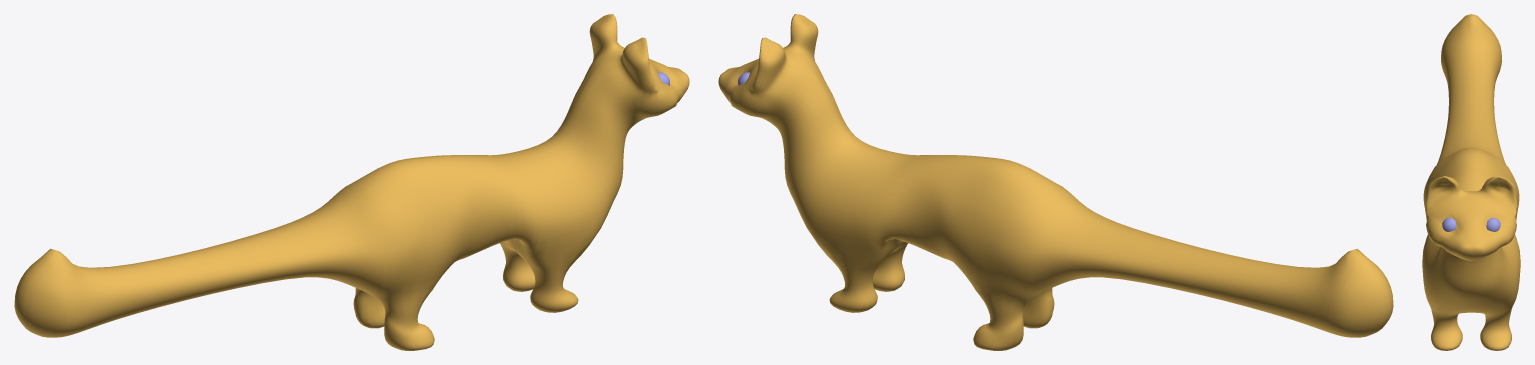
File: Lightspirit_01.fbx
The picture shows the model from 3 angles, left to right: view 1: azimuth 30°, elevation 25°; view 2: azimuth 150°, elevation 25°; view 3: azimuth 270°, elevation 25°; orthographic projection. The views are drawn at different scales.
Visible parts, largest first — view 1: Stoat.001; view 2: Stoat.001; view 3: Stoat.001.
Boxes of the visible parts, x1,y1,x2,y2 form: Stoat.001: (14, 14, 689, 350); Stoat.001: (718, 14, 1393, 350); Stoat.001: (1422, 14, 1520, 350).
Bounding box in the file's own units: 138 × 50.08 × 21.48.
